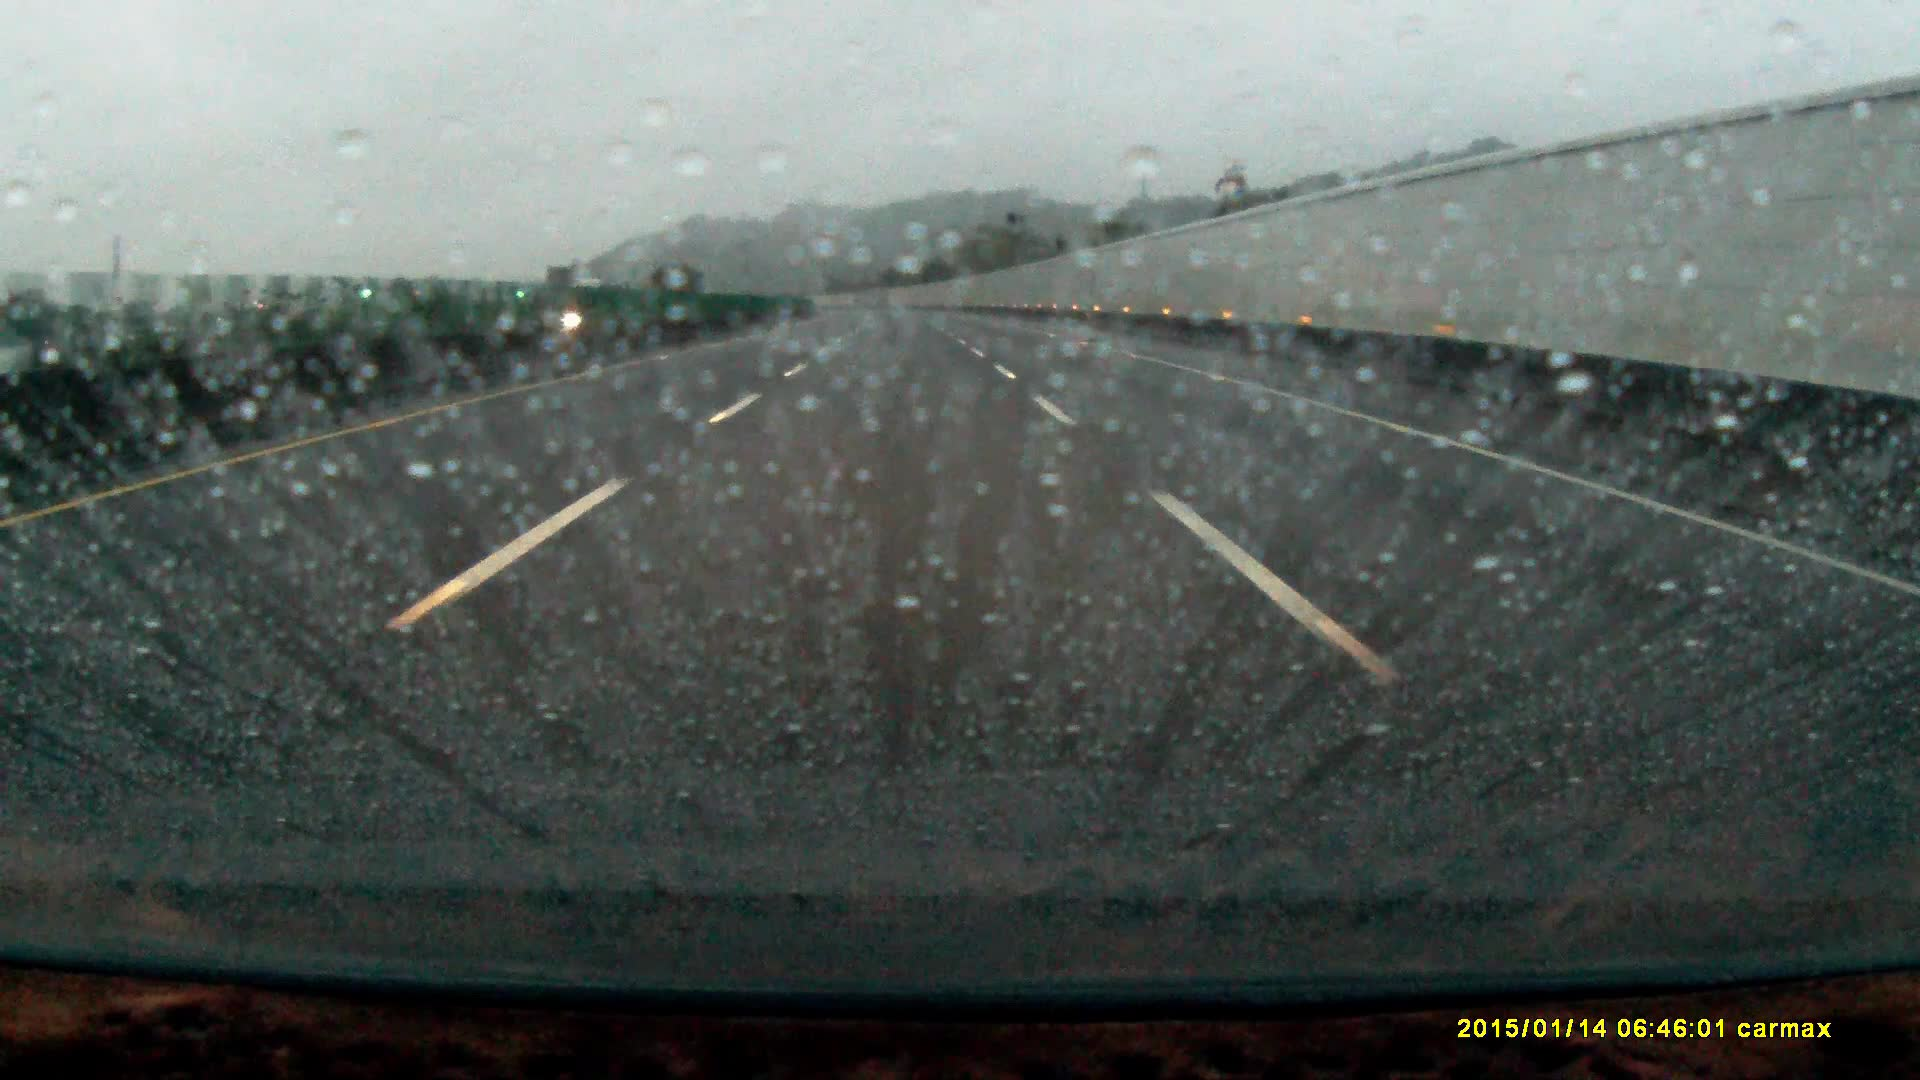vehicle: (531, 301, 607, 335)
